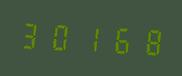eight: (134, 22, 162, 59)
one: (76, 19, 104, 56)
six: (105, 20, 133, 58)
three: (18, 16, 46, 53)
zero: (47, 17, 75, 55)
